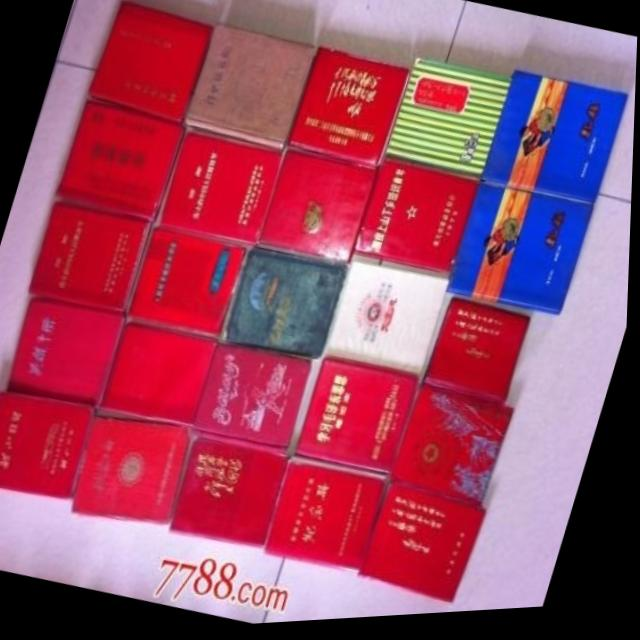box: (448, 185, 595, 323), (482, 75, 629, 212), (183, 24, 319, 153), (362, 485, 491, 611), (87, 1, 214, 127), (56, 103, 186, 225), (155, 128, 286, 248), (286, 49, 411, 174), (385, 61, 513, 183), (392, 390, 516, 512), (355, 161, 482, 280), (325, 264, 452, 383), (222, 248, 352, 364), (298, 361, 423, 480), (128, 226, 249, 340), (29, 204, 153, 313), (261, 154, 378, 268), (171, 442, 292, 551), (268, 465, 389, 574), (7, 299, 130, 406), (74, 417, 194, 526), (195, 345, 316, 452), (103, 323, 221, 429), (425, 301, 533, 411), (0, 389, 98, 500)
